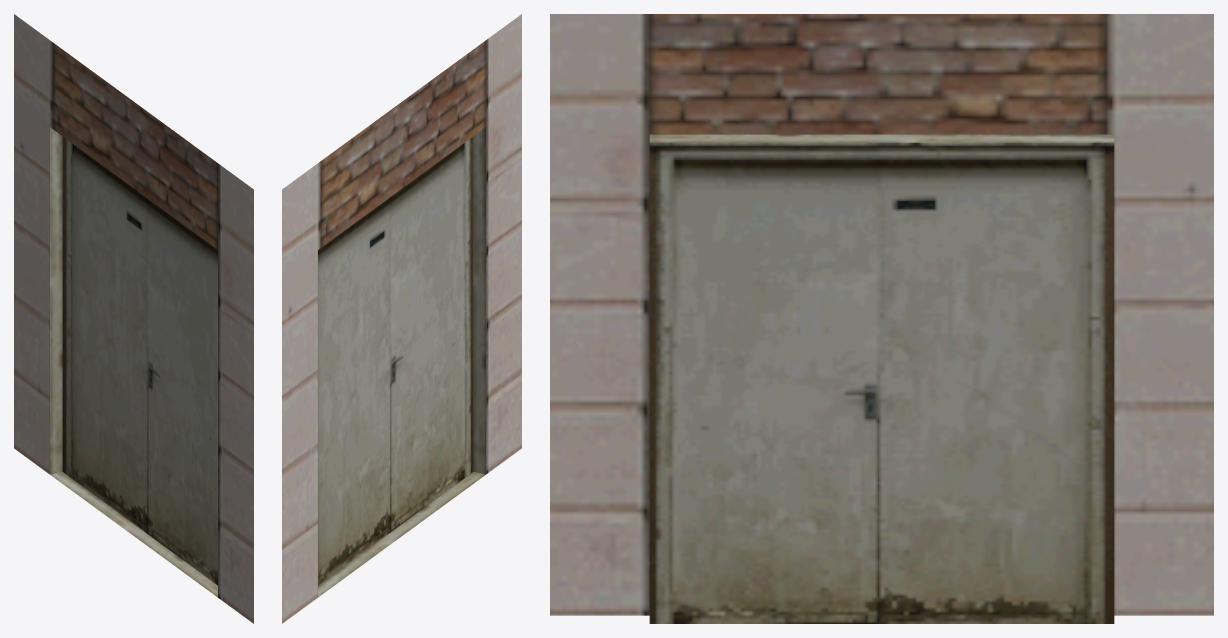
File: Urban_FancyBrickWallOldDoorIndent_Model.fbx
3 views of the same model, side by side, from view 1: azimuth 30°, elevation 25°; view 2: azimuth 150°, elevation 25°; view 3: azimuth 270°, elevation 25° (orthographic). The views are drawn at different scales.
Parts seen in each view (by area): view 1: Urban_FancyBrickWallOldDoorIndent_Mesh; view 2: Urban_FancyBrickWallOldDoorIndent_Mesh; view 3: Urban_FancyBrickWallOldDoorIndent_Mesh.
Boxes of the visible parts, x1,y1,x2,y2 form: Urban_FancyBrickWallOldDoorIndent_Mesh: [14, 14, 253, 623]; Urban_FancyBrickWallOldDoorIndent_Mesh: [282, 14, 521, 623]; Urban_FancyBrickWallOldDoorIndent_Mesh: [550, 14, 1213, 623].
Size of the model in its own units: 0.0635 by 2.1 by 2.1.
